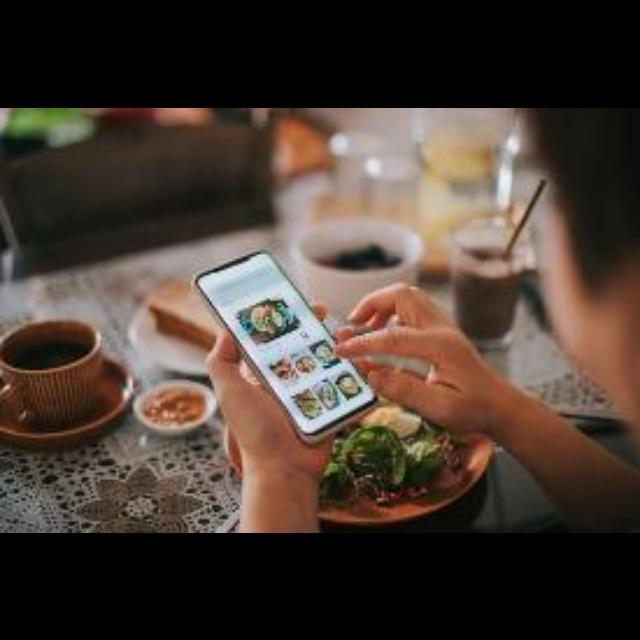Phone: (196, 250, 382, 444)
